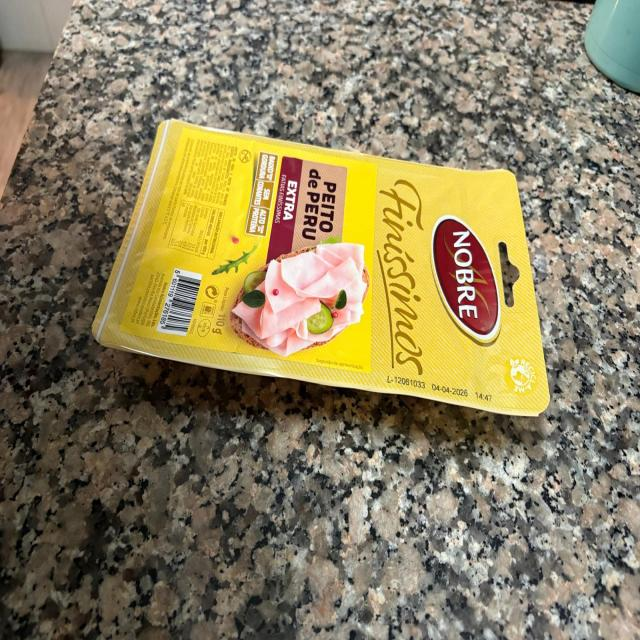good_package: (90, 119, 551, 421)
